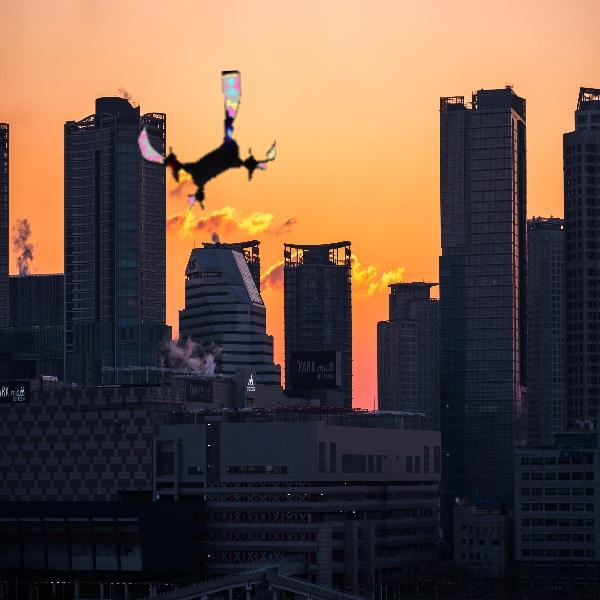drone: (135, 73, 282, 220)
